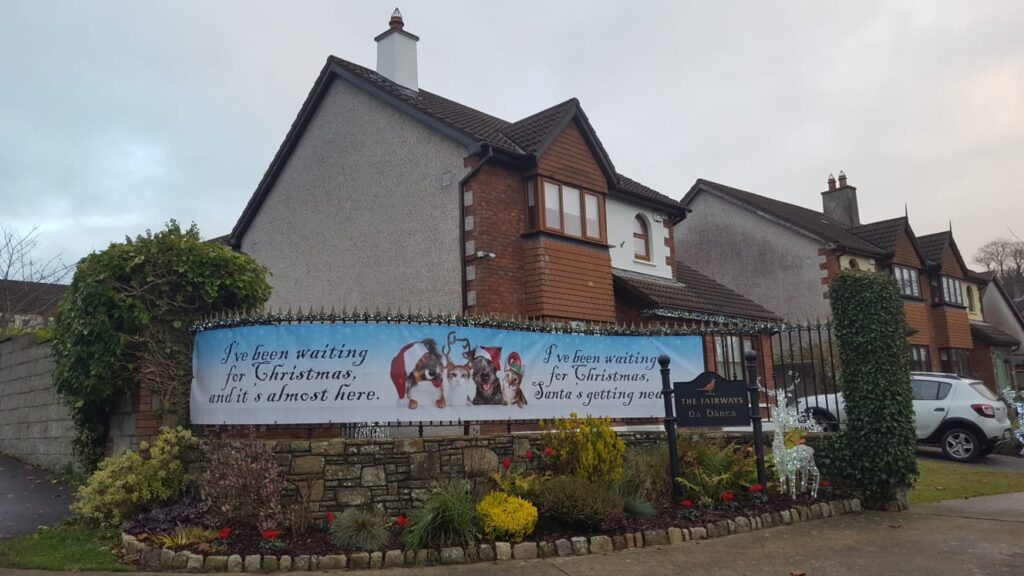vinyl banner: (185, 321, 729, 434)
